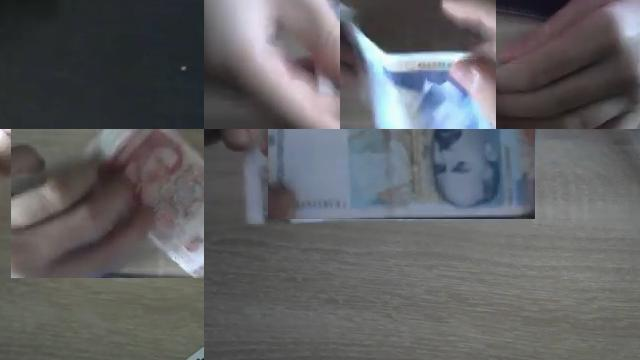20leva: (269, 129, 503, 219), (340, 0, 492, 129)
5leva: (11, 129, 204, 278)
